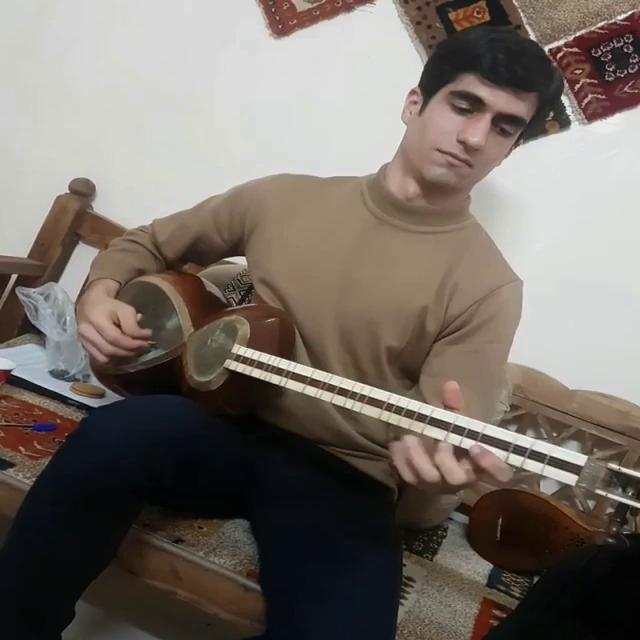Setar: (72, 258, 640, 530), (435, 484, 640, 594)
